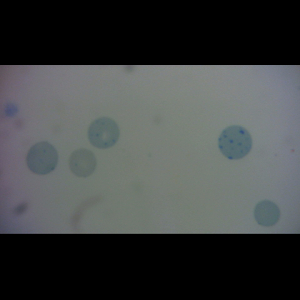aggregate reticulocyte: (217, 124, 254, 161)
erythrocyte: (253, 199, 282, 228)
punctate reticulocyte: (86, 115, 122, 150), (25, 141, 60, 176), (67, 148, 98, 178)
